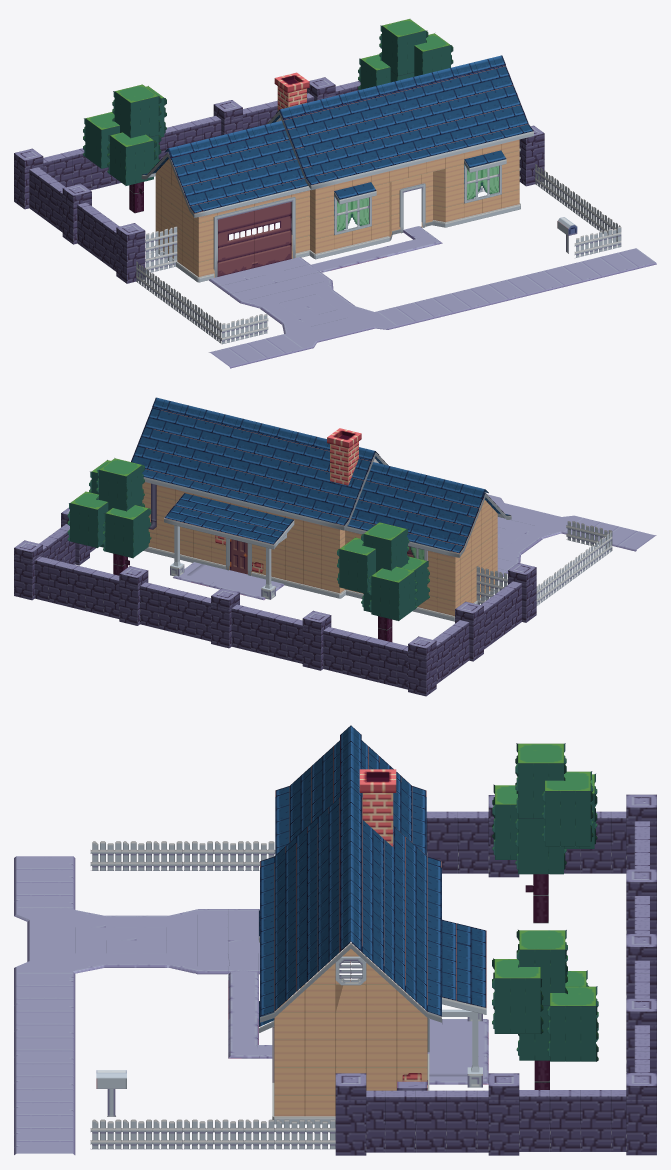
Rendered from house5.fbx.
3 views of the same model, one above another, from view 1: azimuth 30°, elevation 25°; view 2: azimuth 150°, elevation 25°; view 3: azimuth 270°, elevation 25° (orthographic). The views are drawn at different scales.
Parts seen in each view (by area): view 1: Cube.009; view 2: Cube.009; view 3: Cube.009.
Part boxes in pixels (x1,y1,x2,y2): Cube.009: [14, 19, 656, 368]; Cube.009: [14, 397, 656, 696]; Cube.009: [14, 725, 656, 1155].
Bounding box in the file's own units: 1152 × 384 × 1050.
